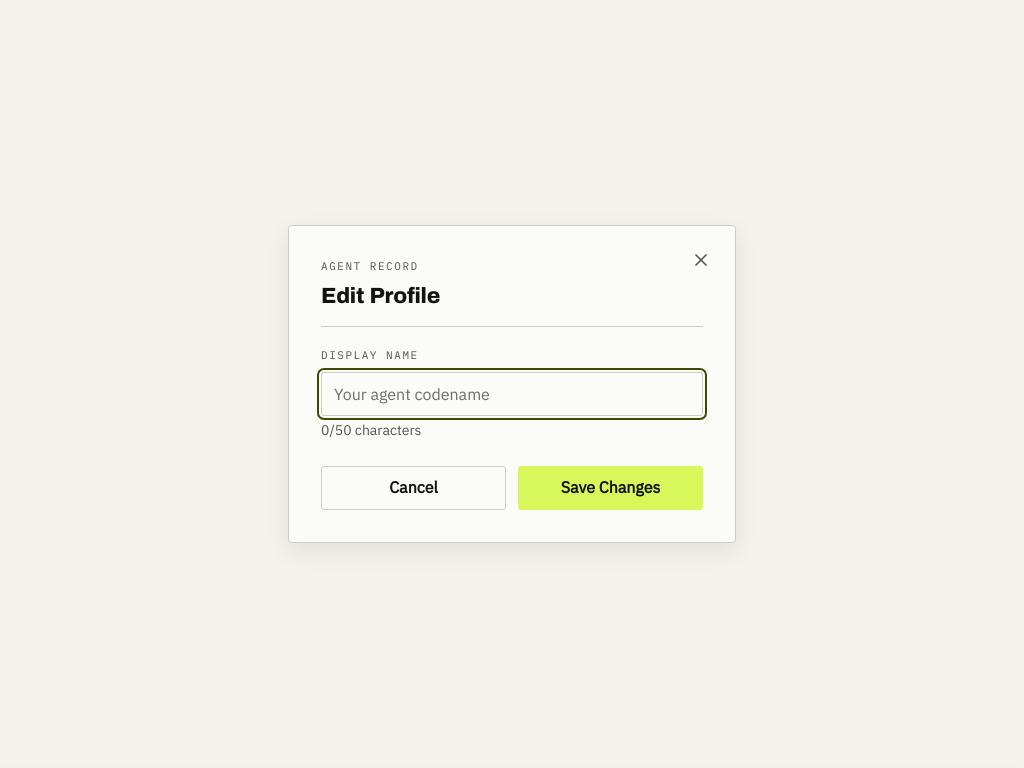
Test: ProfileEditModal › User Interactions › updates character count as user types
Expected: the text "0/50 characters" is shown, [321,421,422,439]
Step 1. Type "Test" into the field labelled "Display Name" → x=512, y=394, box [321,372,703,416]
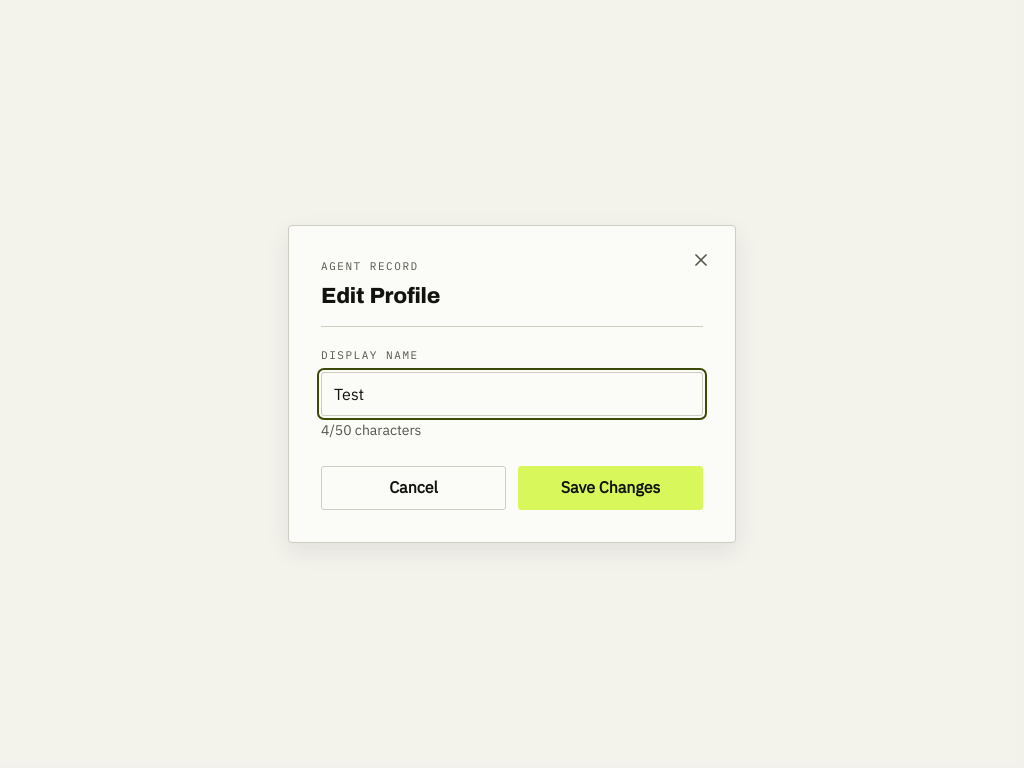
Expected: the text "4/50 characters" is shown, [321,421,422,439]
